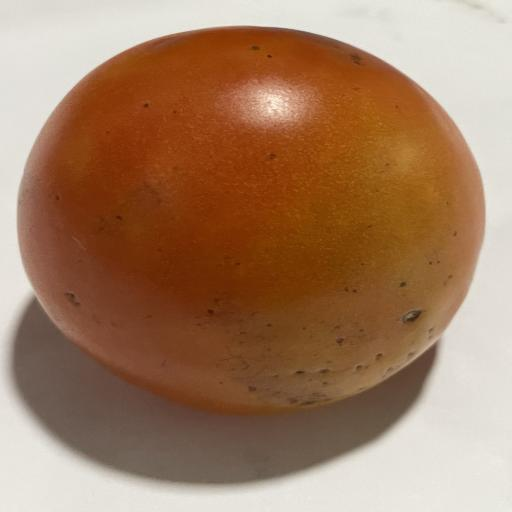unripe: (18, 27, 484, 413)
